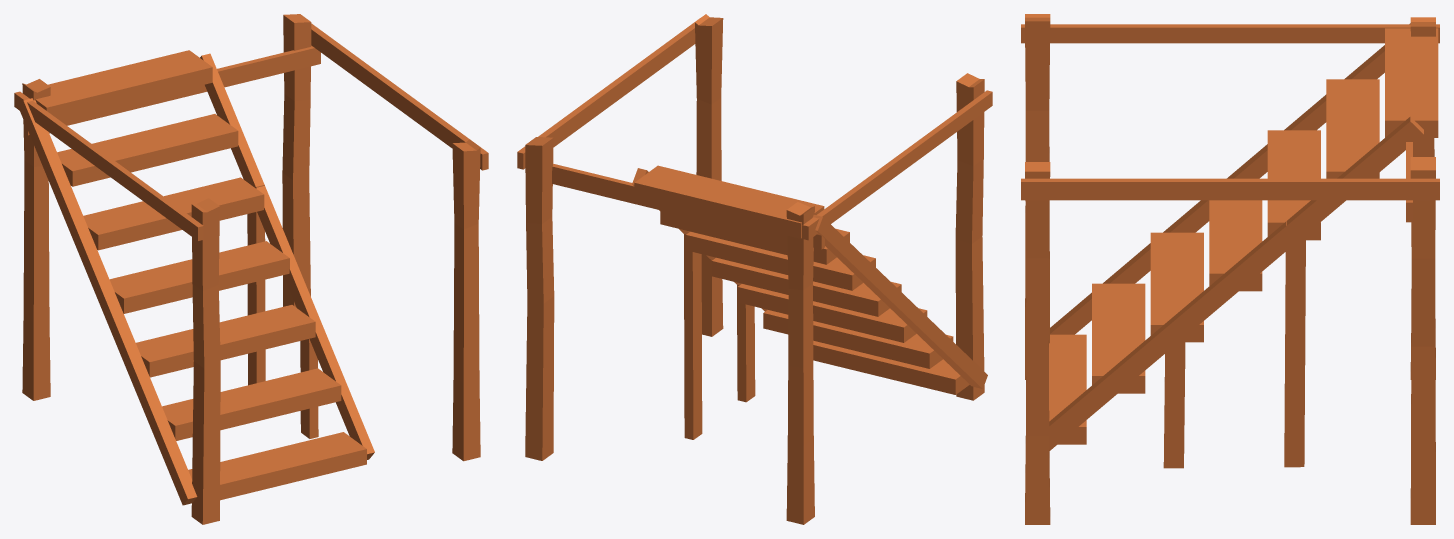
File: Wood Stairs 2.glb
3 views of the same model, side by side, from view 1: azimuth 30°, elevation 25°; view 2: azimuth 150°, elevation 25°; view 3: azimuth 270°, elevation 25° (orthographic). The views are drawn at different scales.
Visible parts, largest first — view 1: WoodStairs2; view 2: WoodStairs2; view 3: WoodStairs2.
Boxes of the visible parts, x1=… form: WoodStairs2: x1=14, y1=14, x2=488, y2=524; WoodStairs2: x1=517, y1=14, x2=992, y2=524; WoodStairs2: x1=1021, y1=14, x2=1439, y2=524.
Bounding box in the file's own units: 2.01 × 2.05 × 2.17.
